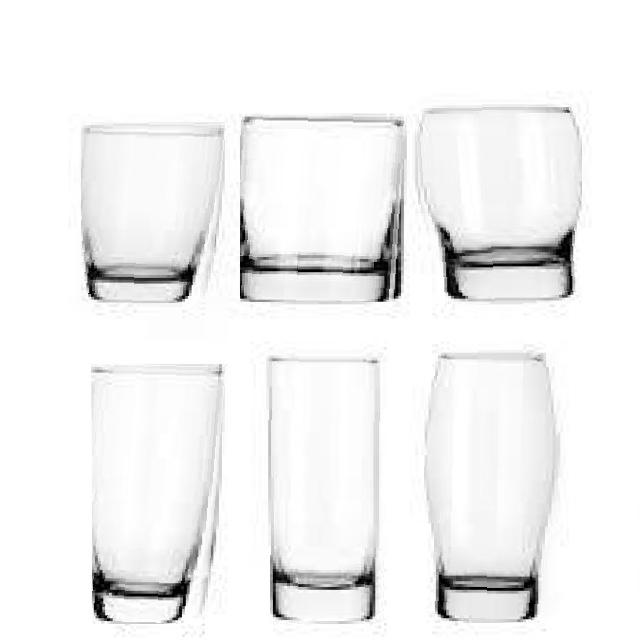Glass: (424, 353, 560, 623), (92, 363, 226, 624), (414, 104, 582, 304), (266, 352, 386, 624), (240, 112, 407, 302), (81, 121, 226, 303)
